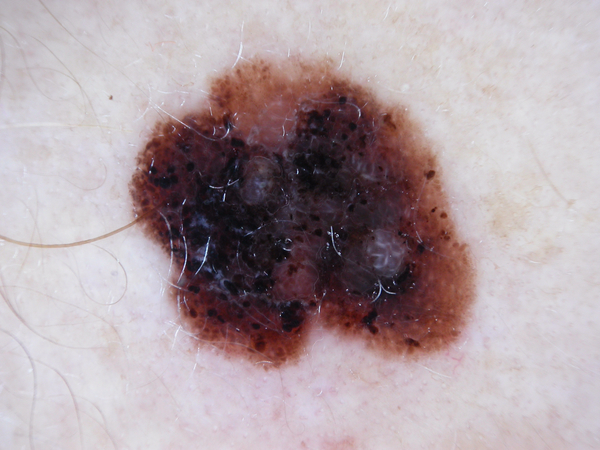Detected Lesion: (126, 45, 482, 373)
